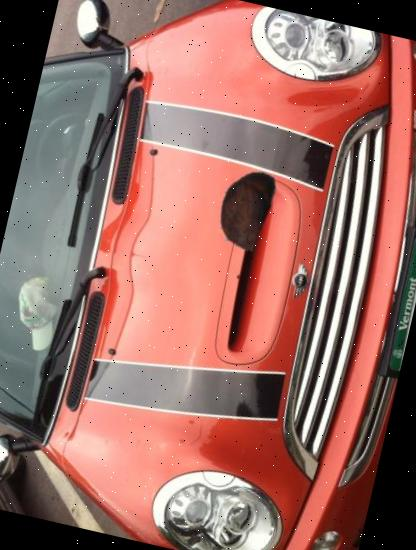Chestnut: (196, 158, 294, 256)
